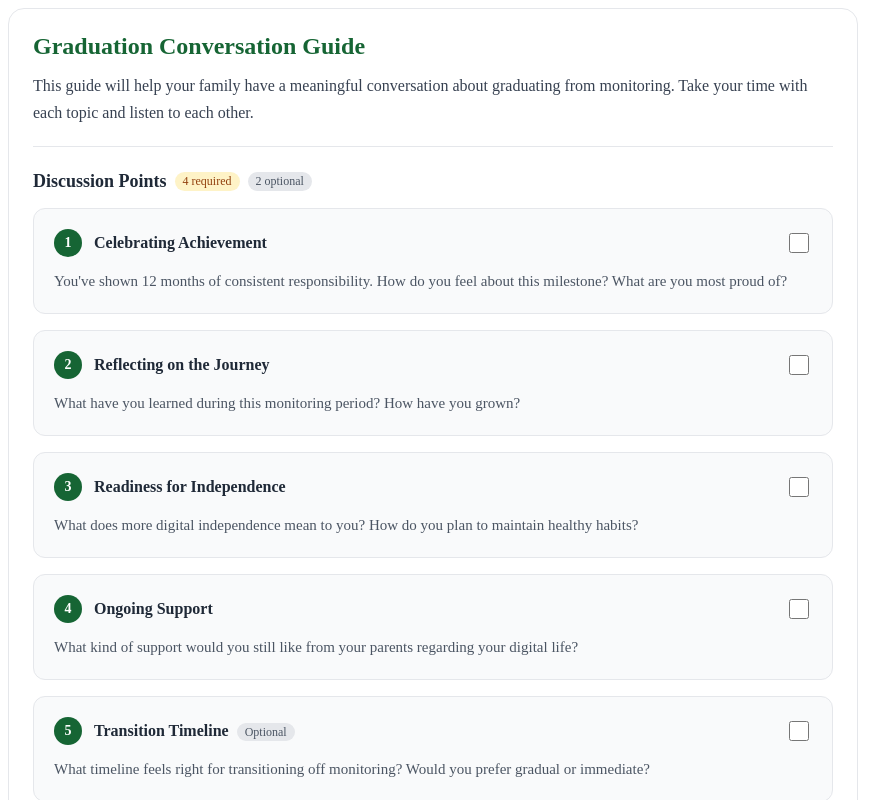
Graduation Conversation Integration Tests - Story 38.2 Task 7 › Conversation Template Display (AC5) › should allow tracking discussed topics
Click the checkbox named "Mark \"Celebrating Achievement\" as discussed".
click(799, 243)  # box [789,233,809,253]
(page scrolled)
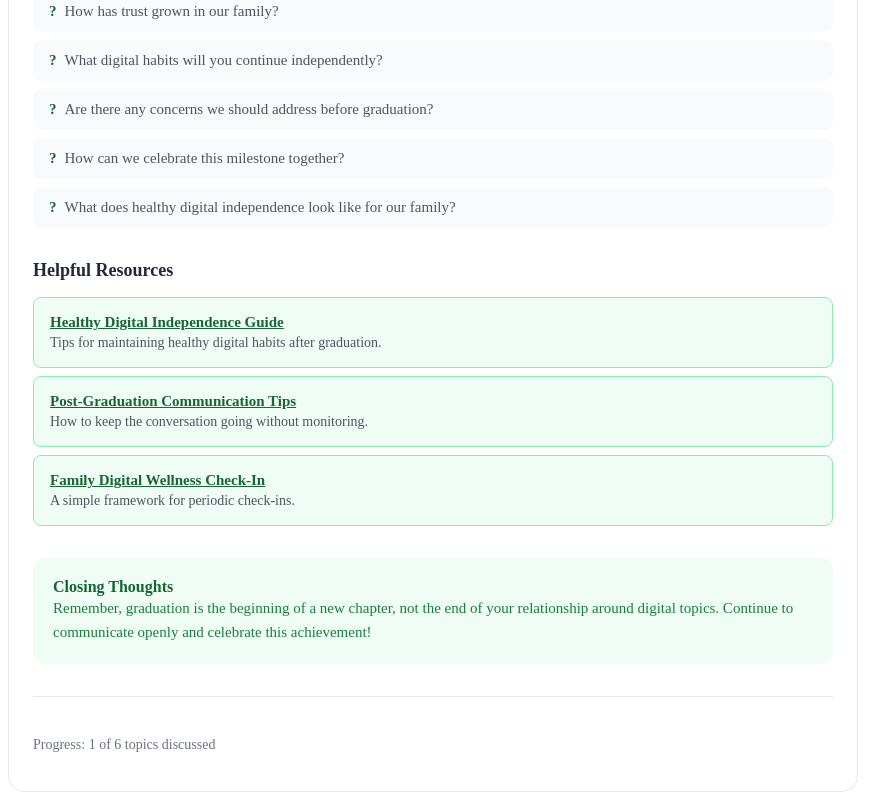
Result: the text "Progress: 1 of 6 topics discussed" is shown at [33,737,215,752]
